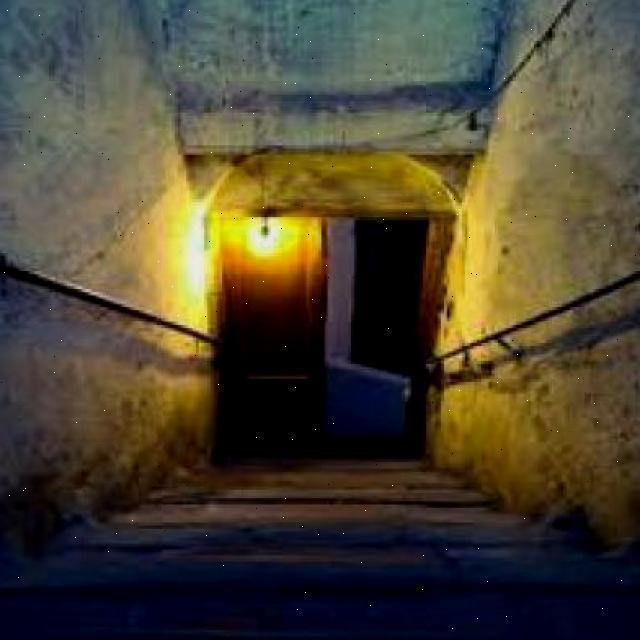stair: (52, 469, 584, 612)
